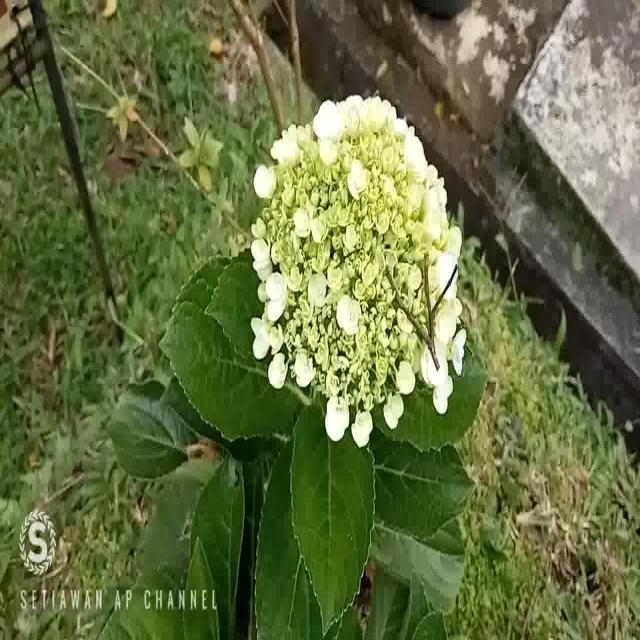Flower: (250, 89, 474, 466)
